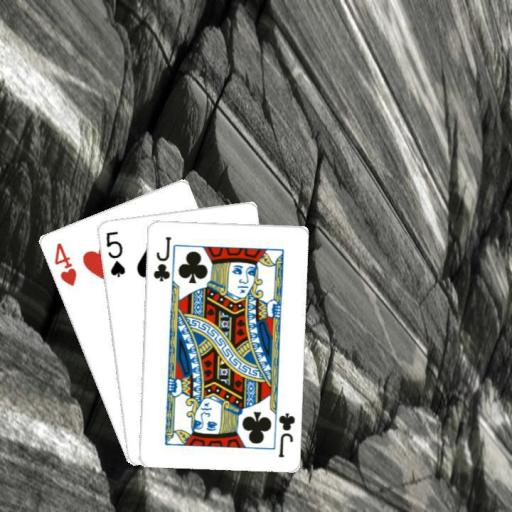4H: (51, 239, 78, 287)
5S: (102, 228, 126, 278)
JC: (149, 233, 172, 283), (275, 409, 297, 458)
